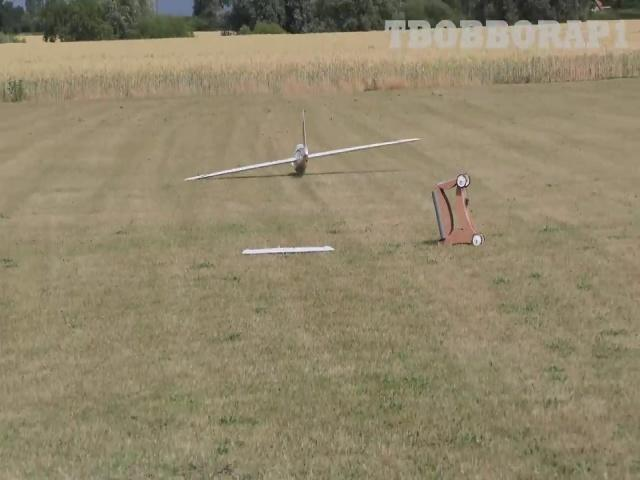Airplane: (184, 109, 422, 181)
